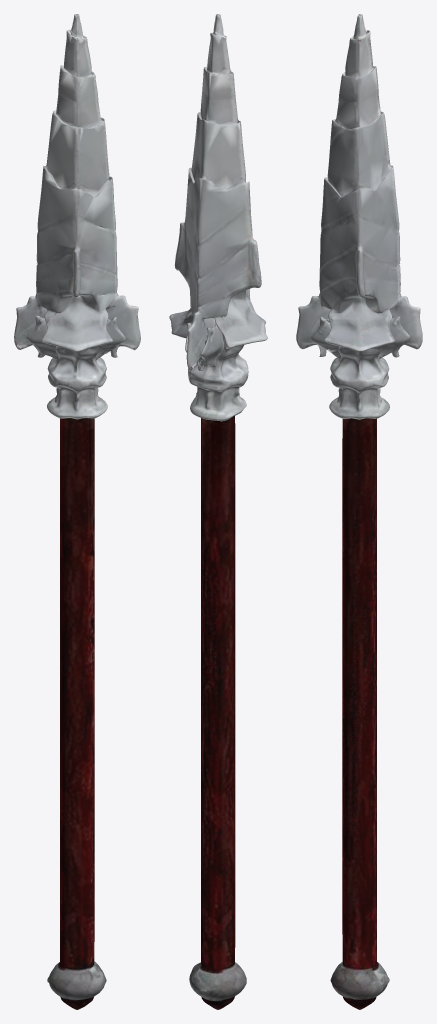
File: comum-lanca.glb
3 views of the same model, side by side, from view 1: azimuth 90°, elevation 25°; view 2: azimuth 150°, elevation 25°; view 3: azimuth 270°, elevation 25° (orthographic).
Parts seen in each view (by area): view 1: tripo_node_3da184d4-c614-4189-b581-b757ec71a2f0; view 2: tripo_node_3da184d4-c614-4189-b581-b757ec71a2f0; view 3: tripo_node_3da184d4-c614-4189-b581-b757ec71a2f0.
Boxes of the visible parts, box(x1,y1,x2,y2) form: tripo_node_3da184d4-c614-4189-b581-b757ec71a2f0: box(14, 14, 140, 1009); tripo_node_3da184d4-c614-4189-b581-b757ec71a2f0: box(169, 14, 267, 1009); tripo_node_3da184d4-c614-4189-b581-b757ec71a2f0: box(296, 14, 422, 1009).
Bounding box in the file's own units: 0.0996 × 0.9834 × 0.1135.
Materials: 1 (1 with a texture image).
